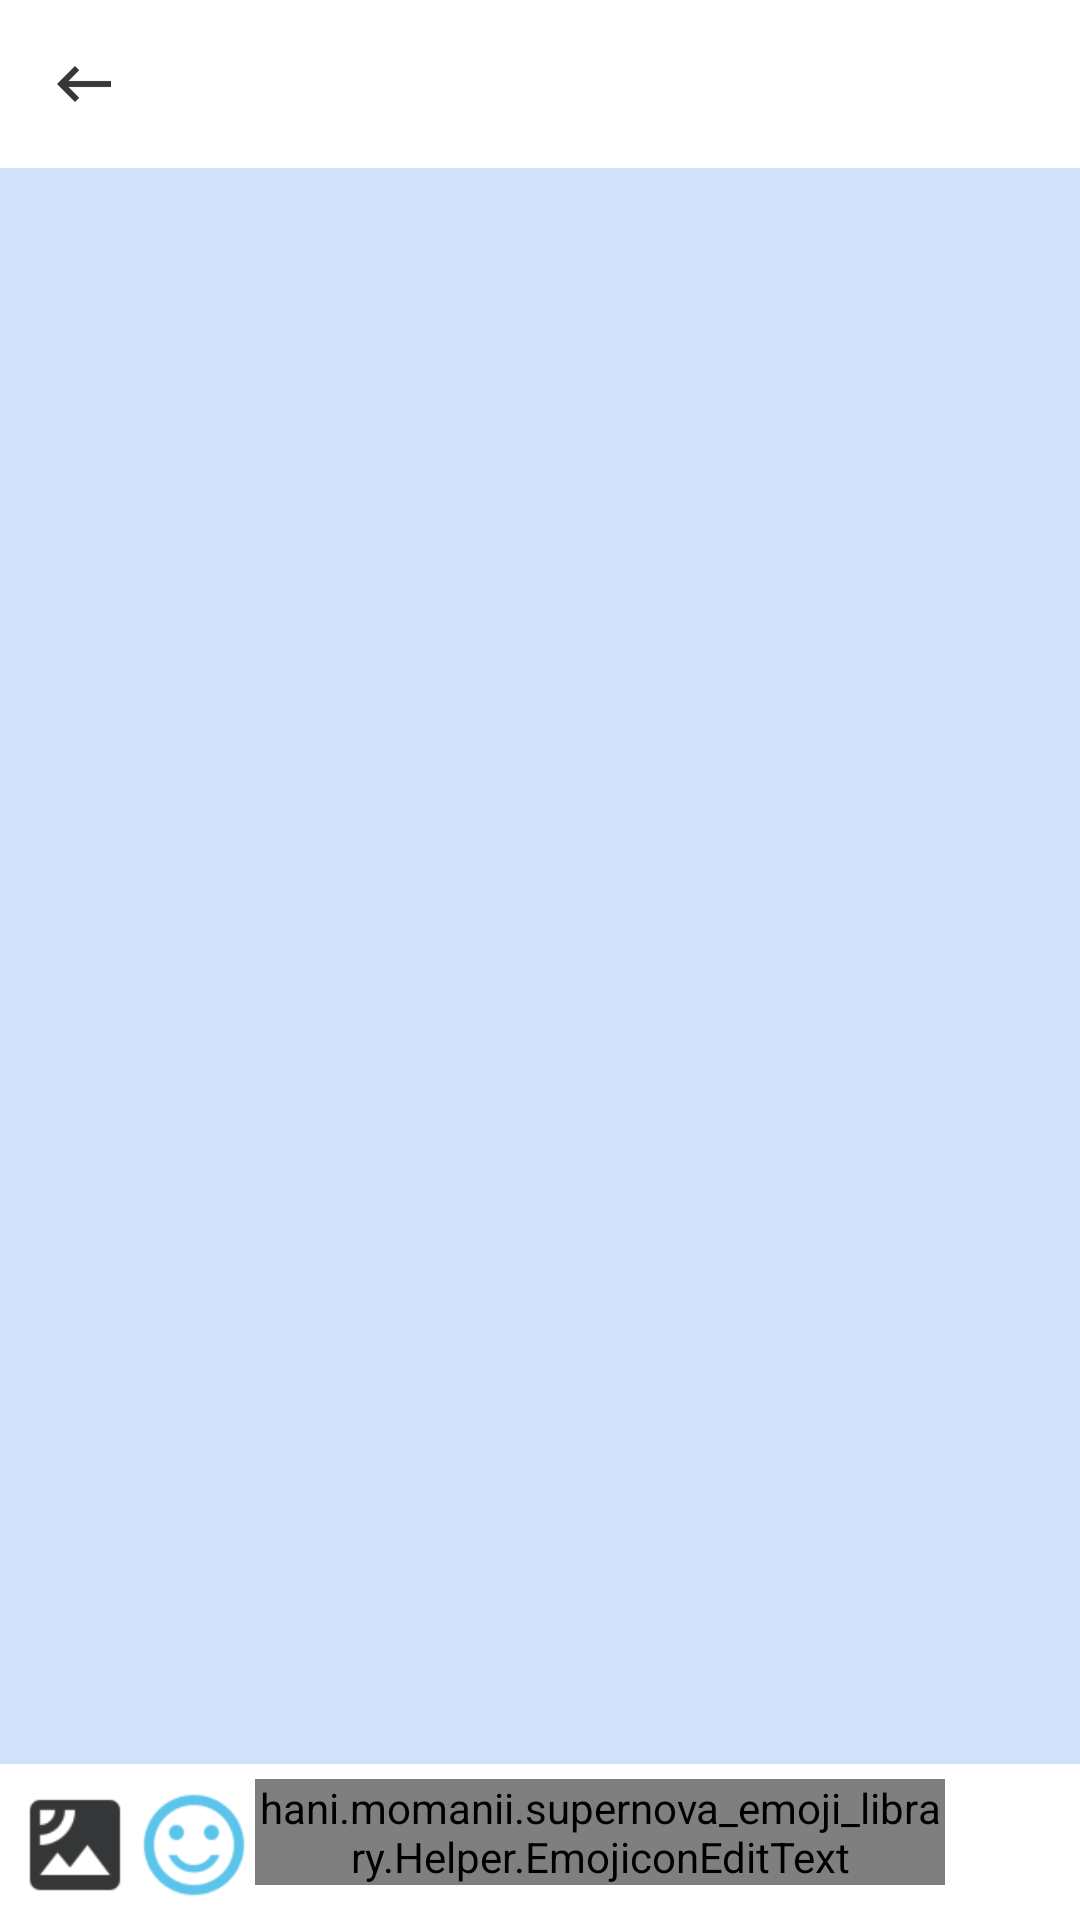

Icon bounding boxes for this 1080px x 1920px phone screenshot, format (x1, y1, x2, y2):
back: (57, 66, 111, 102)
buttonimage: (29, 1799, 121, 1891)
